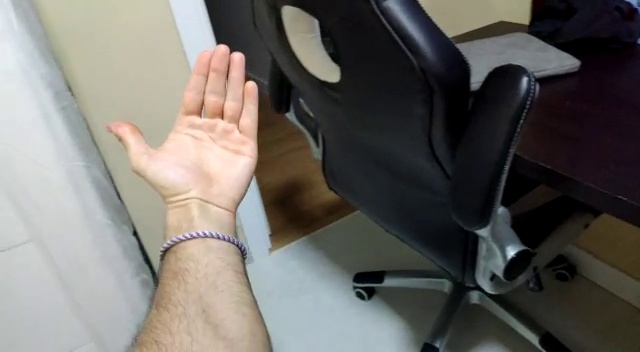Palm: (103, 39, 265, 215)
